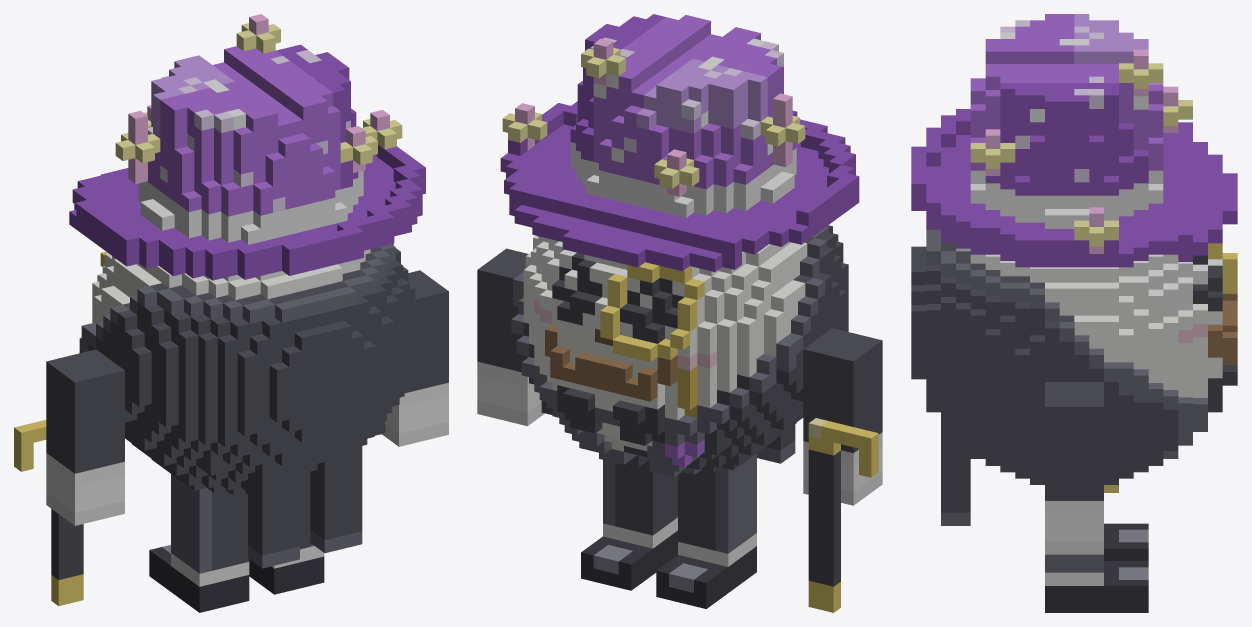
The model's file is SparklinoFedorino.glb.
3 views of the same model, side by side, from view 1: azimuth 30°, elevation 25°; view 2: azimuth 150°, elevation 25°; view 3: azimuth 270°, elevation 25° (orthographic). The views are drawn at different scales.
Visible parts, largest first — view 1: geometry_0; view 2: geometry_0; view 3: geometry_0.
Boxes of the visible parts, x1,y1,x2,y2 form: geometry_0: [14, 14, 448, 612]; geometry_0: [477, 14, 882, 612]; geometry_0: [911, 14, 1237, 612].
Size of the model in its own units: 0.7273 by 0.9318 by 0.5.
